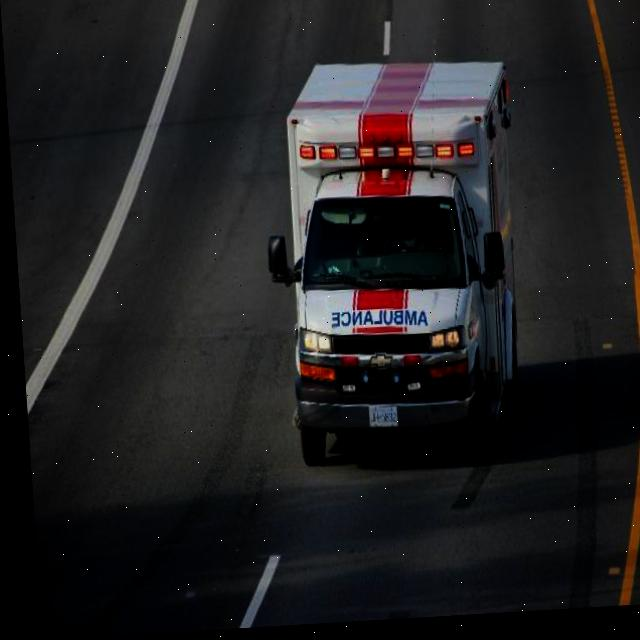emergency: (253, 46, 529, 477)
